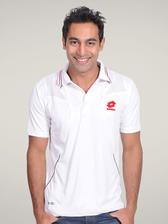clothoes: (28, 63, 145, 217)
